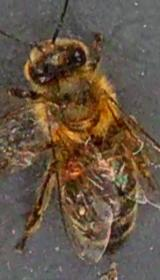varroa_mite: (62, 154, 88, 186)
